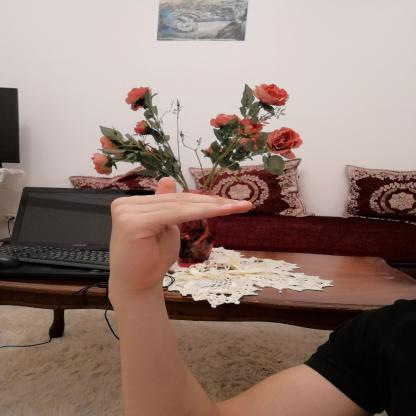KHAA: (94, 169, 267, 308)
